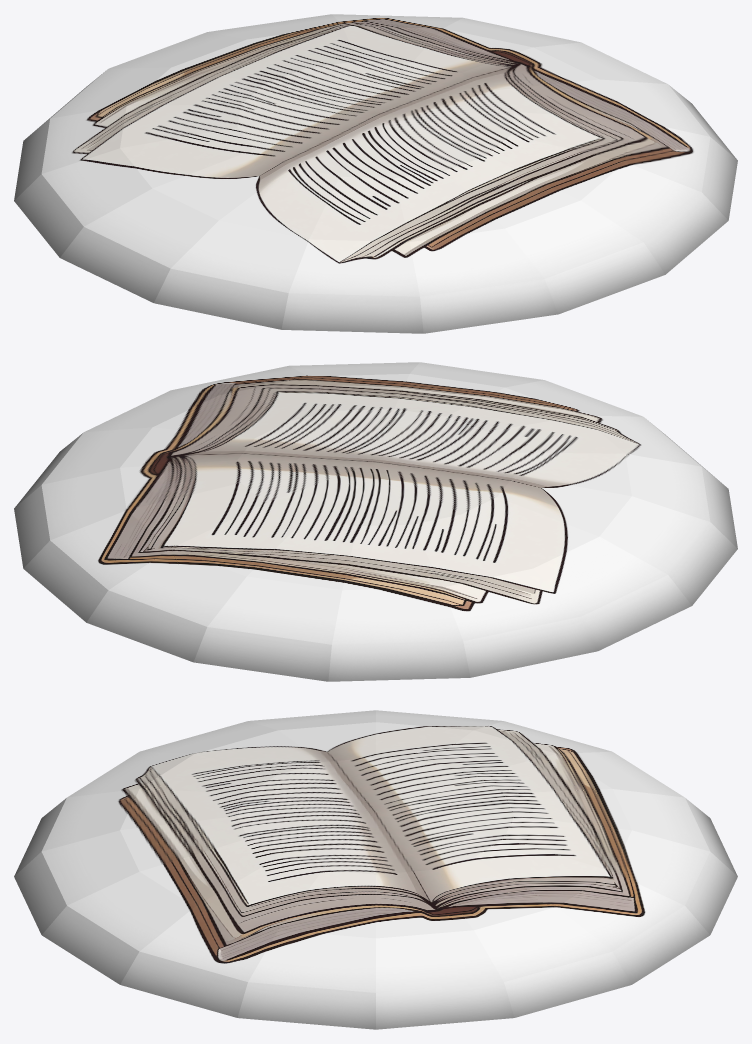
The model's file is Box_Library_Marker_1.fbx.
3 views of the same model, one above another, from view 1: azimuth 30°, elevation 25°; view 2: azimuth 150°, elevation 25°; view 3: azimuth 270°, elevation 25° (orthographic).
Visible parts, largest first — view 1: Box_Library_Marker_1; view 2: Box_Library_Marker_1; view 3: Box_Library_Marker_1.
Part boxes in pixels (x1=…): Box_Library_Marker_1: x1=14, y1=14, x2=737, y2=333; Box_Library_Marker_1: x1=14, y1=362, x2=737, y2=681; Box_Library_Marker_1: x1=14, y1=710, x2=737, y2=1029.
Bounding box in the file's own units: 200 × 20 × 200.
1 material, 1 textured.
